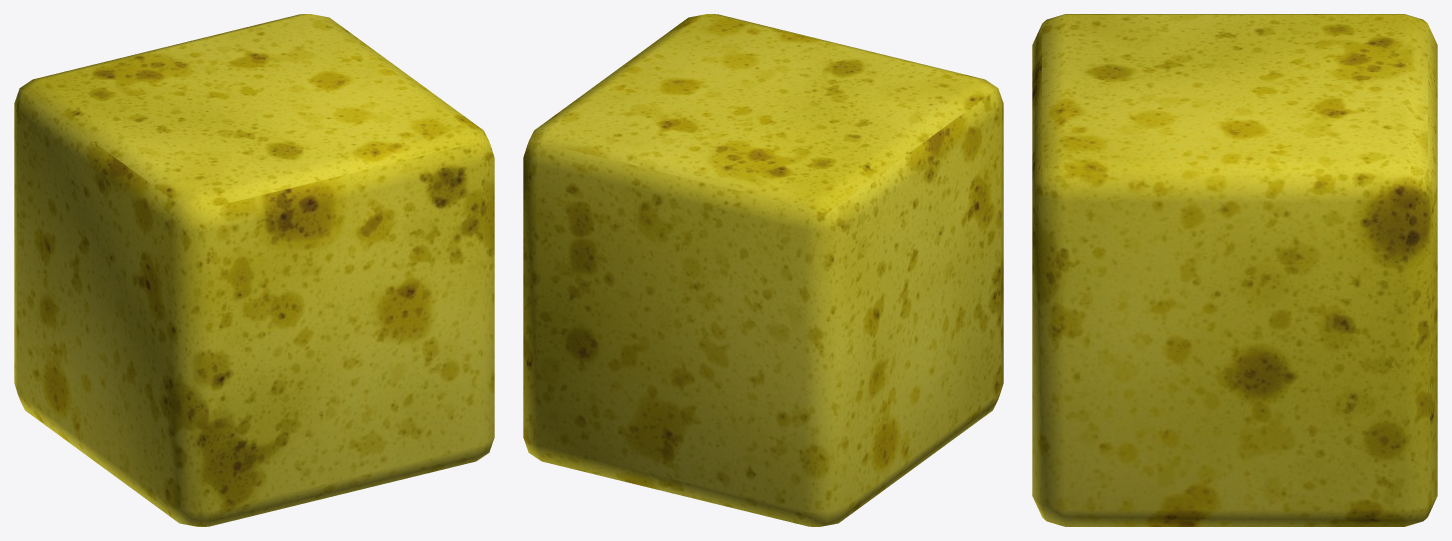
Rendered from sponge.glb.
3 views of the same model, side by side, from view 1: azimuth 30°, elevation 25°; view 2: azimuth 150°, elevation 25°; view 3: azimuth 270°, elevation 25° (orthographic). The views are drawn at different scales.
Parts seen in each view (by area): view 1: mesh-rigid; view 2: mesh-rigid; view 3: mesh-rigid.
Boxes of the visible parts, x1=… form: mesh-rigid: x1=14, y1=14, x2=494, y2=526; mesh-rigid: x1=523, y1=14, x2=1003, y2=526; mesh-rigid: x1=1032, y1=14, x2=1437, y2=526.
Bounding box in the file's own units: 2 × 2 × 2.
Materials: 1 (1 with a texture image).
